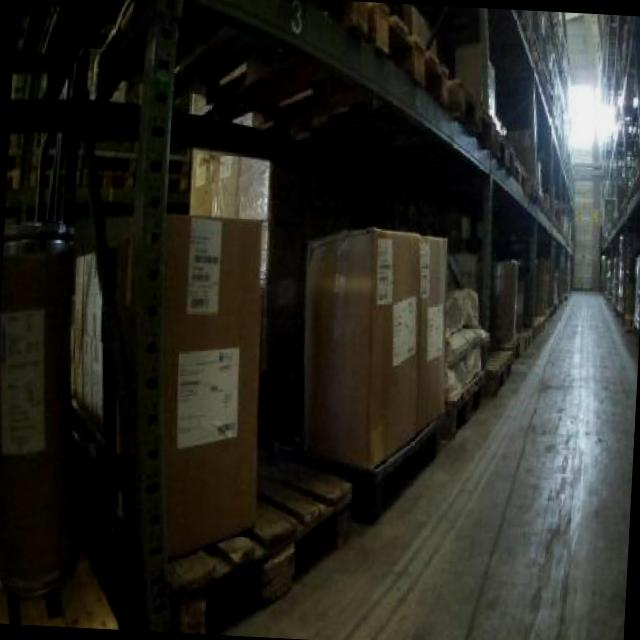pallet: (168, 447, 359, 640), (346, 1, 464, 117), (440, 364, 490, 444), (490, 348, 528, 388)
